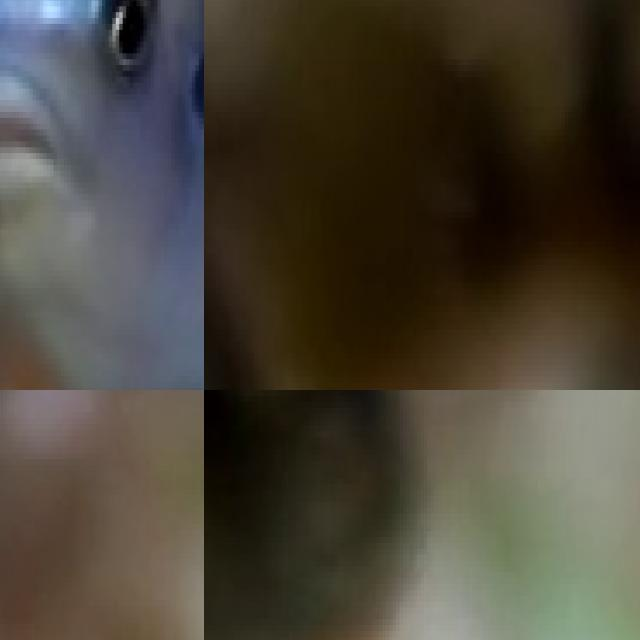fish: (0, 0, 204, 390), (204, 390, 462, 640)
